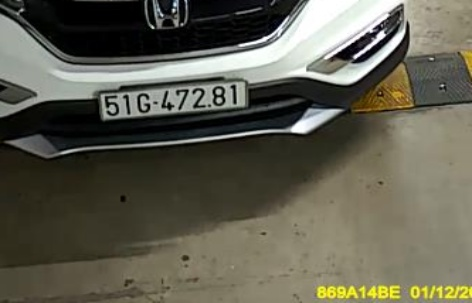plate: (95, 80, 249, 121)
